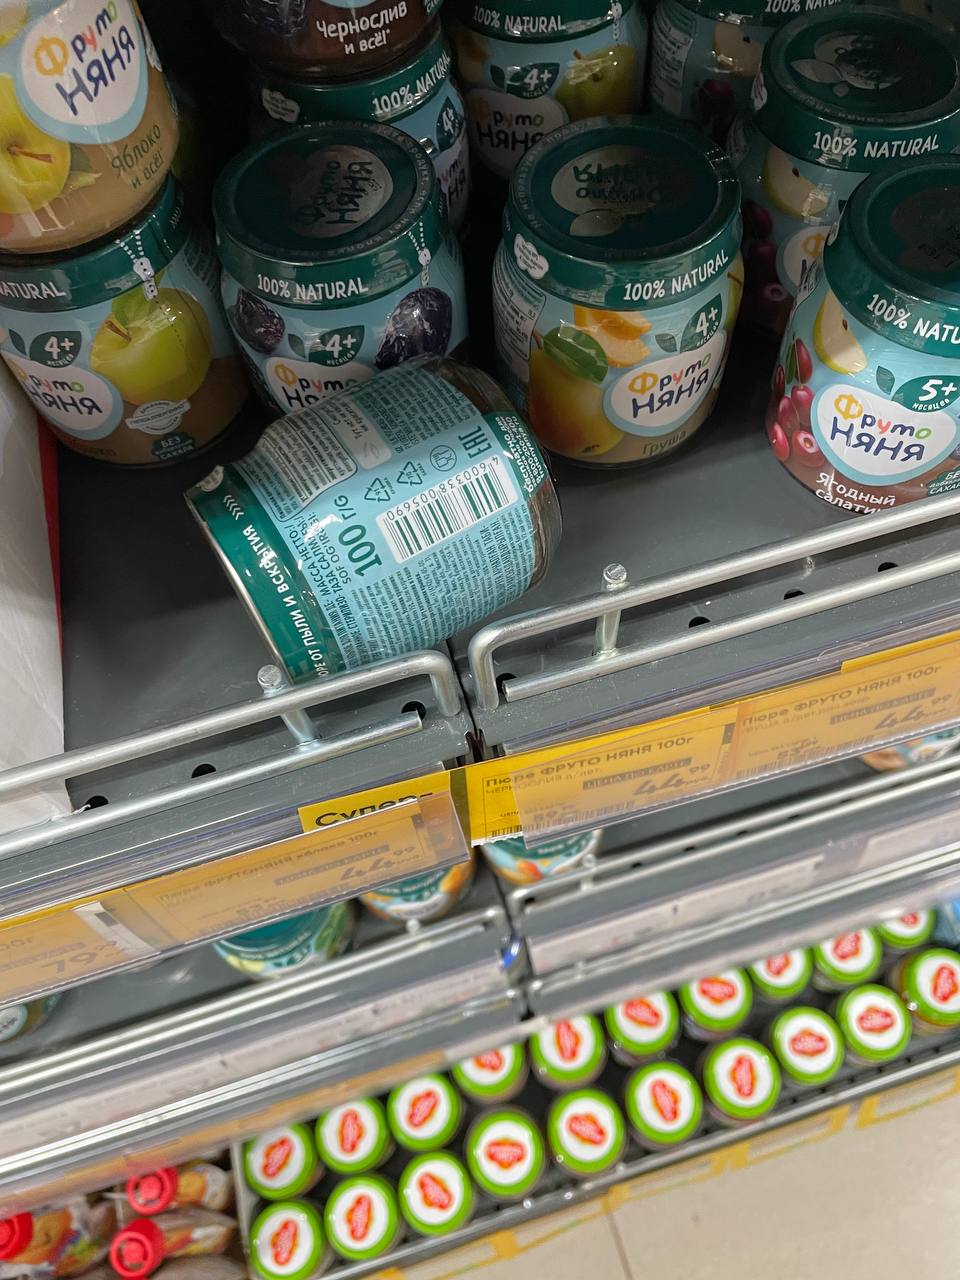1d: (385, 466, 510, 561), (196, 881, 352, 940), (736, 731, 878, 783), (490, 799, 636, 839), (0, 974, 62, 1005)
